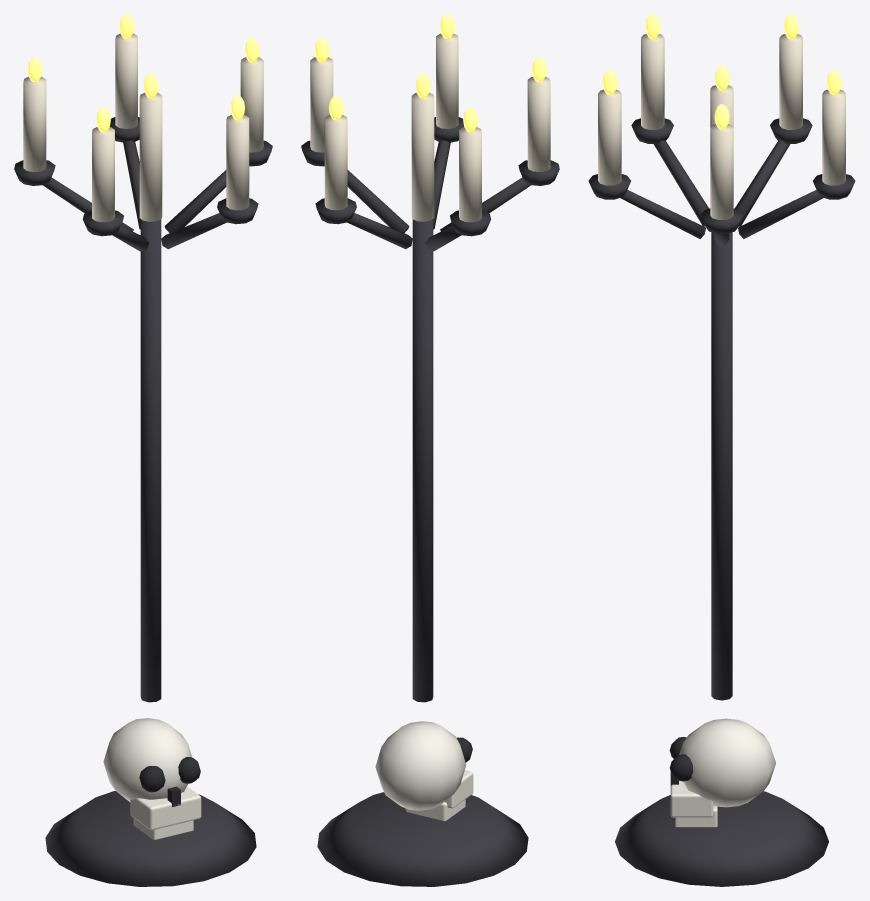
Rendered from candelabra_skull_base.glb.
The picture shows the model from 3 angles, left to right: view 1: azimuth 30°, elevation 25°; view 2: azimuth 150°, elevation 25°; view 3: azimuth 270°, elevation 25°; orthographic projection.
Visible parts, largest first — view 1: GD_candelabra_skull_base__m0, GD_candelabra_skull_base__m2, GD_candelabra_skull_base__m1, GD_candelabra_skull_base__m3, GD_candelabra_skull_base__m4; view 2: GD_candelabra_skull_base__m0, GD_candelabra_skull_base__m2, GD_candelabra_skull_base__m1, GD_candelabra_skull_base__m3; view 3: GD_candelabra_skull_base__m0, GD_candelabra_skull_base__m2, GD_candelabra_skull_base__m1, GD_candelabra_skull_base__m3, GD_candelabra_skull_base__m4.
Boxes of the visible parts, x1,y1,x2,y2 form: GD_candelabra_skull_base__m0: (14, 117, 272, 886); GD_candelabra_skull_base__m2: (23, 33, 263, 222); GD_candelabra_skull_base__m1: (103, 718, 201, 839); GD_candelabra_skull_base__m3: (27, 14, 259, 132); GD_candelabra_skull_base__m4: (139, 757, 200, 806); GD_candelabra_skull_base__m0: (301, 117, 559, 886); GD_candelabra_skull_base__m2: (310, 33, 550, 222); GD_candelabra_skull_base__m1: (375, 721, 473, 821); GD_candelabra_skull_base__m3: (314, 14, 546, 132); GD_candelabra_skull_base__m0: (588, 118, 855, 886); GD_candelabra_skull_base__m2: (598, 34, 845, 219); GD_candelabra_skull_base__m1: (670, 718, 775, 827); GD_candelabra_skull_base__m3: (602, 14, 841, 129); GD_candelabra_skull_base__m4: (669, 737, 693, 785).
Size of the model in its own units: 0.4741 by 1.62 by 0.4985.
